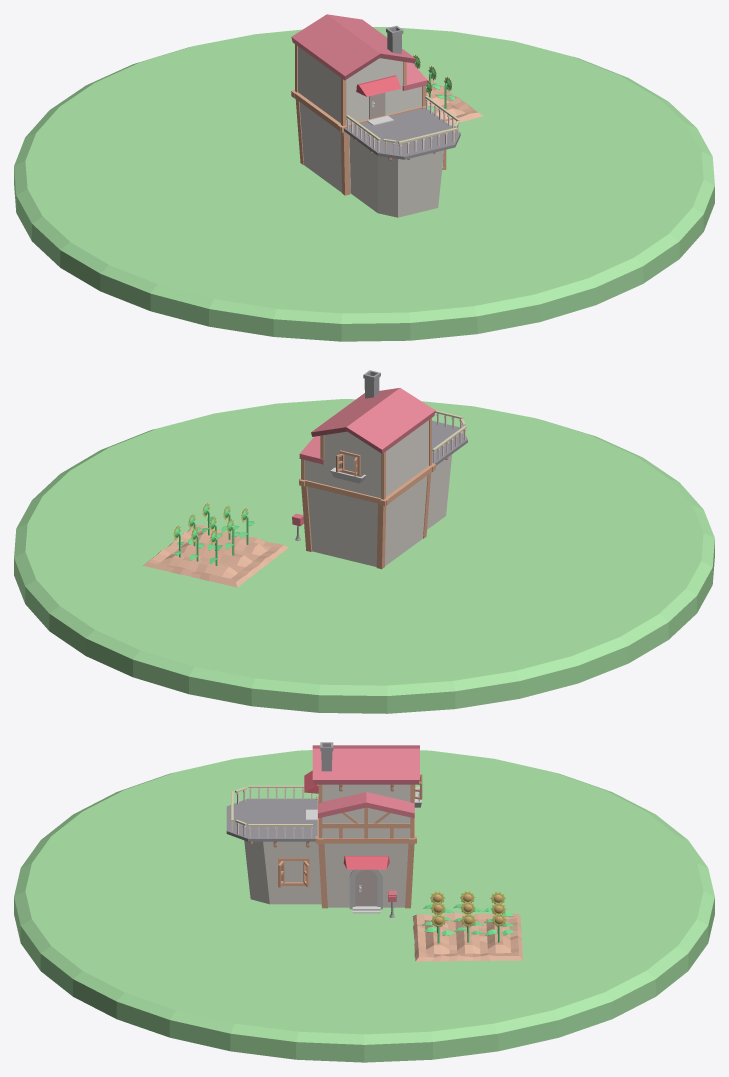
The model's file is ハウス2.glb.
The picture shows the model from 3 angles, top to bottom: view 1: azimuth 30°, elevation 25°; view 2: azimuth 150°, elevation 25°; view 3: azimuth 270°, elevation 25°; orthographic projection.
Visible parts, largest first — view 1: 円柱.009, 立方体.111, 立方体.106, 立方体.093, 立方体.080, グリッド.001, 立方体.040, 立方体.085, 立方体.060; view 2: 円柱.009, 立方体.111, 立方体.106, グリッド.001, 立方体.080, 平面.036, 立方体.093; view 3: 円柱.009, 立方体.111, 立方体.106, グリッド.001, 立方体.080, 立方体.093, 平面.034, 立方体.085, 平面.036, 平面.030, 立方体.040, Cube.001 (+2 smaller).
Part boxes in pixels (box(x1,y1,x2,y2)): 円柱.009: box(14, 27, 714, 341); 立方体.111: box(298, 46, 443, 217); 立方体.106: box(291, 14, 427, 90); 立方体.093: box(344, 108, 460, 159); 立方体.080: box(291, 44, 446, 195); グリッド.001: box(425, 76, 483, 124); 立方体.040: box(346, 98, 458, 155); 立方体.085: box(356, 75, 401, 96); 立方体.060: box(346, 96, 459, 143); 円柱.009: box(14, 399, 714, 713); 立方体.111: box(305, 420, 452, 566); 立方体.106: box(299, 388, 435, 464); グリッド.001: box(143, 524, 288, 587); 立方体.080: box(299, 418, 448, 569); 平面.036: box(174, 505, 254, 565); 立方体.093: box(432, 420, 467, 465); 円柱.009: box(14, 750, 714, 1062); 立方体.111: box(244, 784, 410, 907); 立方体.106: box(312, 745, 419, 818); グリッド.001: box(412, 913, 522, 961); 立方体.080: box(249, 774, 422, 908); 立方体.093: box(226, 798, 317, 841); 平面.034: box(430, 891, 506, 926); 立方体.085: box(304, 770, 389, 869); 平面.036: box(422, 904, 514, 943); 平面.030: box(355, 870, 377, 906); 立方体.040: box(231, 788, 312, 838); Cube.001: box(349, 869, 382, 909).
Size of the model in its own units: 448 by 123 by 448.
